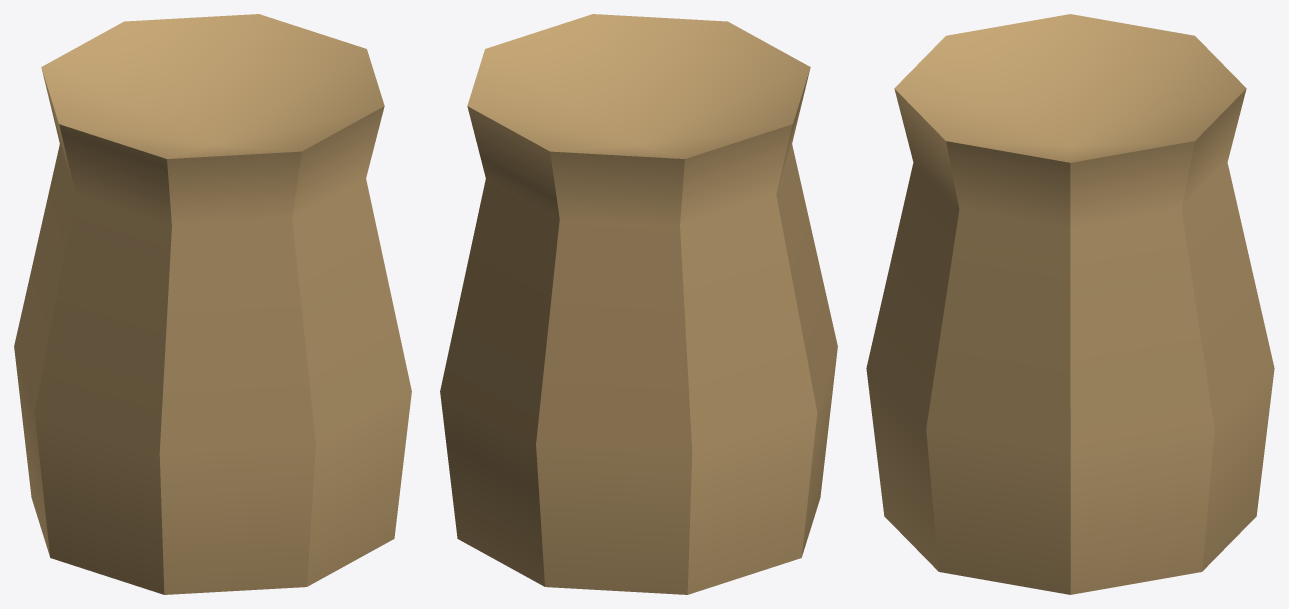
The model's file is sm_Vase.fbx.
3 views of the same model, side by side, from view 1: azimuth 30°, elevation 25°; view 2: azimuth 150°, elevation 25°; view 3: azimuth 270°, elevation 25° (orthographic).
Visible parts, largest first — view 1: sm_Vase; view 2: sm_Vase; view 3: sm_Vase.
Boxes of the visible parts, x1,y1,x2,y2 form: sm_Vase: [14, 14, 411, 594]; sm_Vase: [440, 14, 837, 594]; sm_Vase: [866, 14, 1274, 594].
Bounding box in the file's own units: 0.4725 × 0.5465 × 0.4725.
